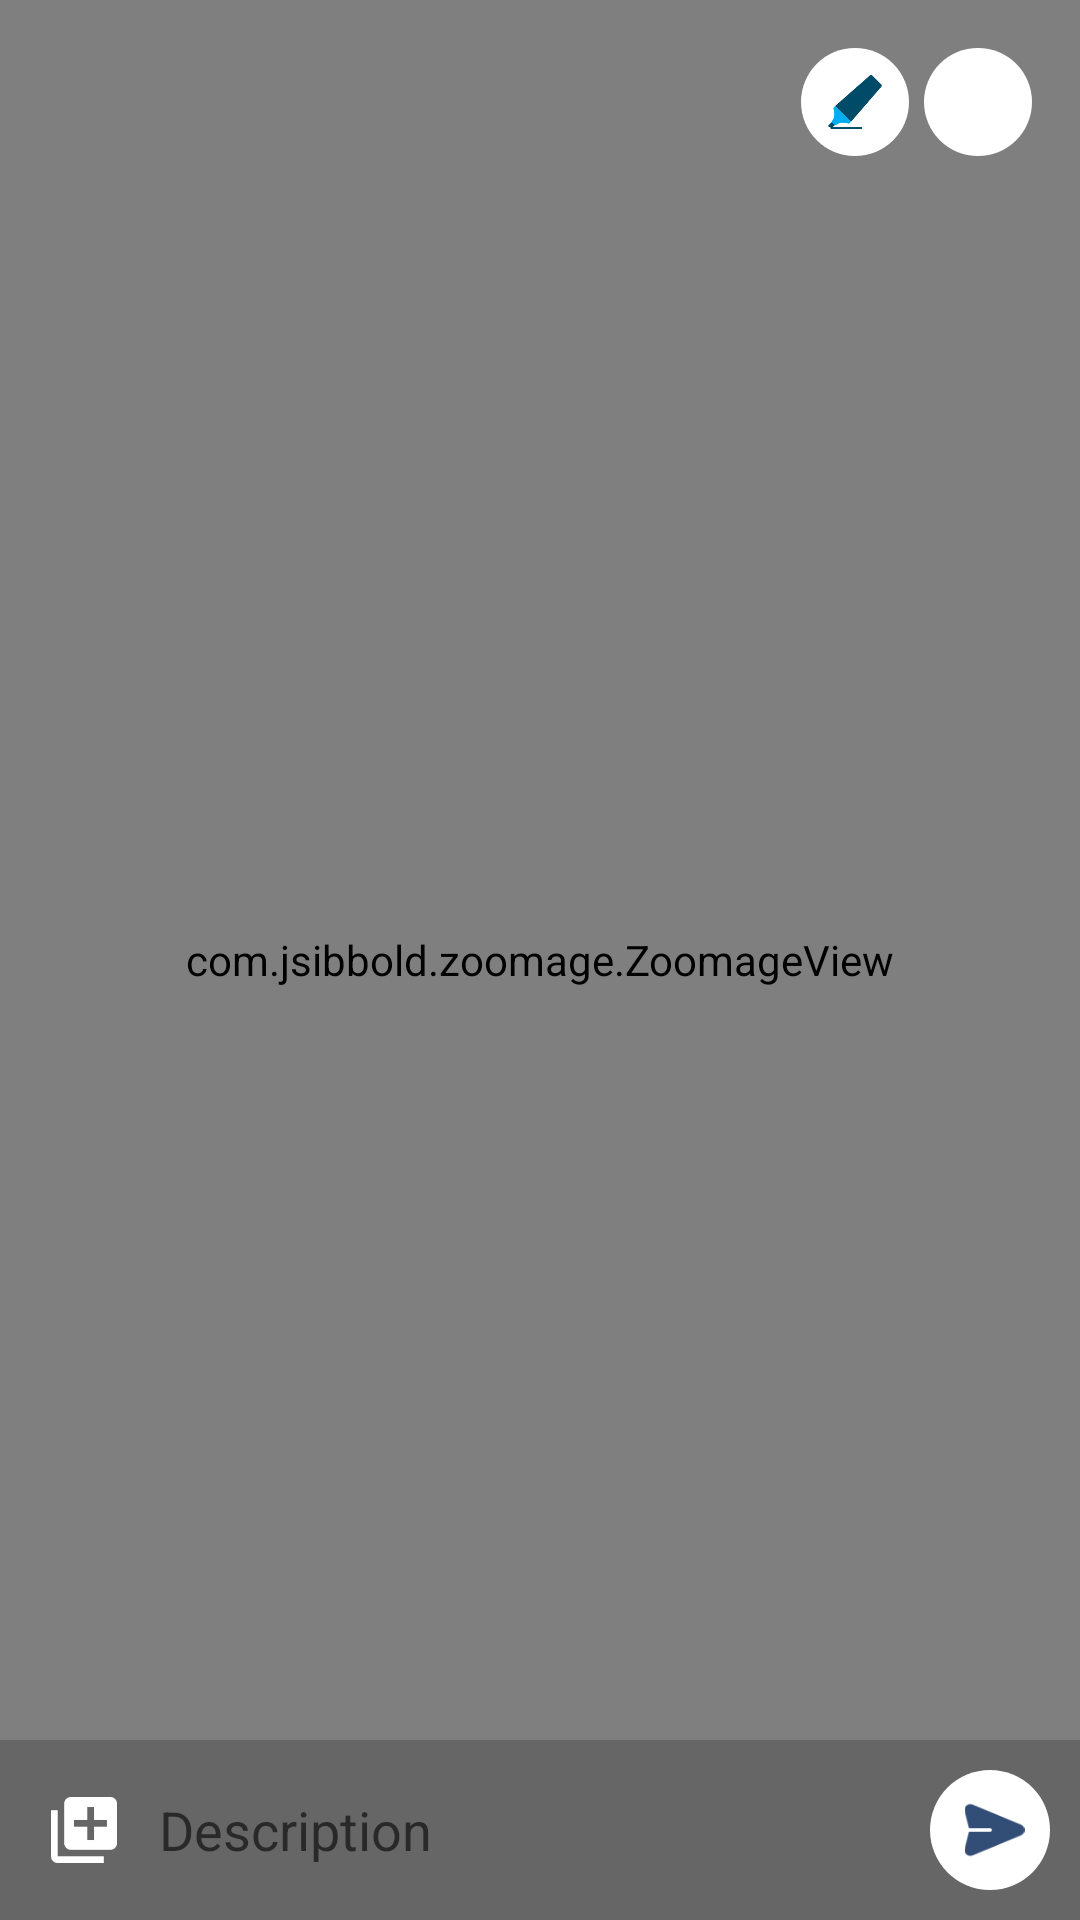

Screen size 1080 × 1920. Icon name, then its box in pixels as {"x1": x1, "y1": y1, "x2": x2, "y2": y2}:
add images: {"x1": 51, "y1": 1797, "x2": 117, "y2": 1863}
highlighter: {"x1": 801, "y1": 48, "x2": 909, "y2": 156}
send: {"x1": 930, "y1": 1770, "x2": 1050, "y2": 1890}
